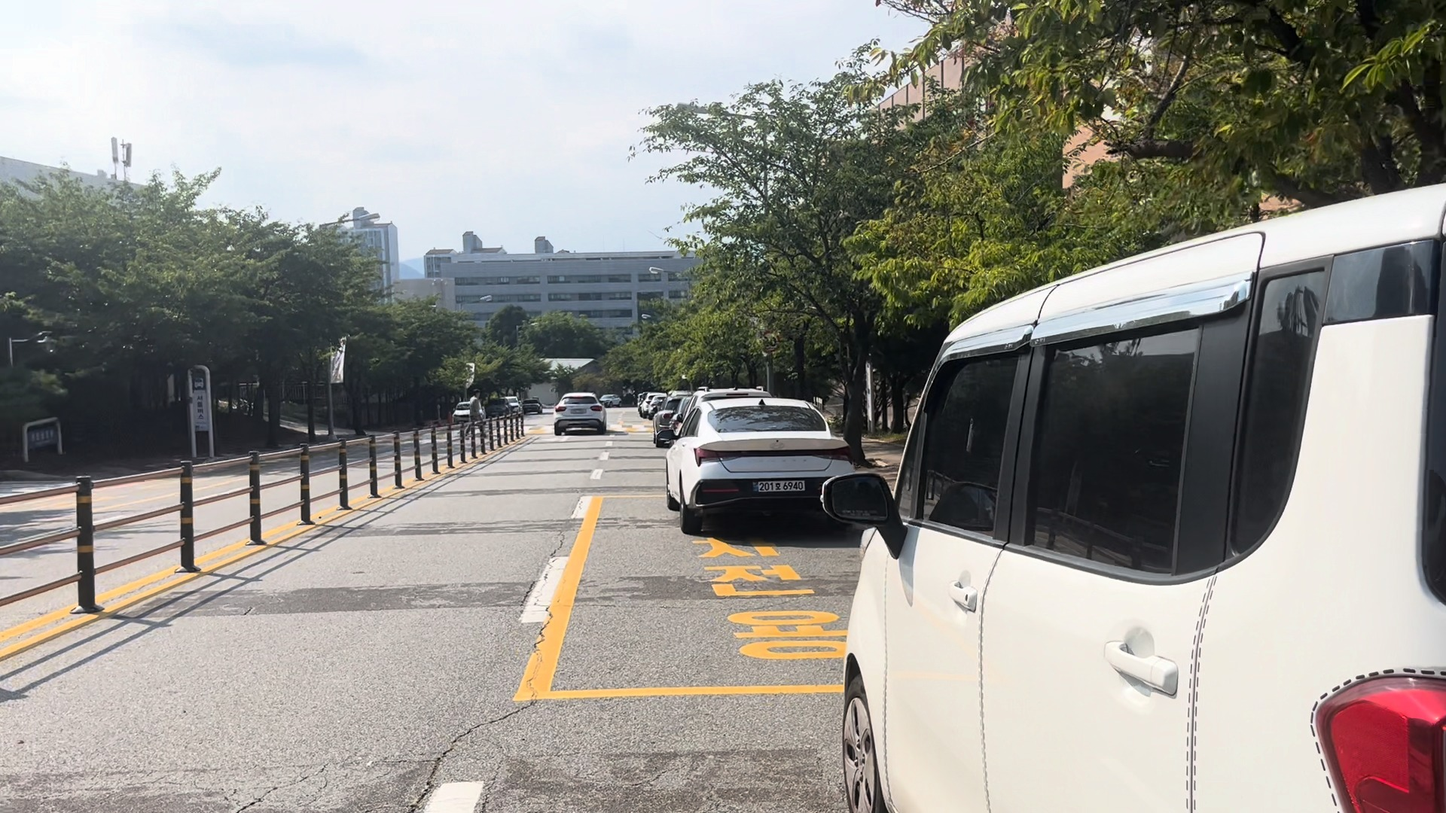door_handle: (1104, 641, 1178, 696), (948, 582, 978, 611)
side_mirror: (822, 473, 905, 558)
tail_light: (1316, 677, 1445, 812), (816, 446, 852, 461), (694, 447, 723, 464), (555, 403, 565, 411), (590, 404, 601, 411)
